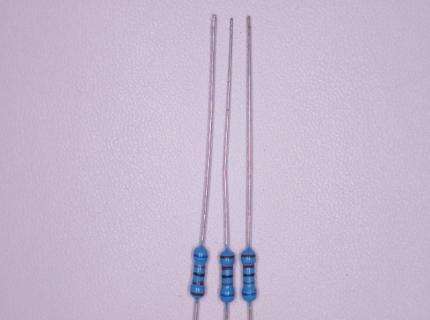Black band: (193, 272, 205, 277), (221, 274, 233, 279), (243, 273, 255, 277)
Blue band: (193, 254, 207, 258), (220, 293, 234, 297), (242, 292, 256, 296)
Brown band: (190, 291, 205, 296), (240, 254, 256, 258), (220, 255, 235, 259)
Grey band: (194, 265, 205, 269), (243, 282, 255, 285), (221, 283, 233, 286)
Red band: (191, 280, 204, 286), (243, 264, 255, 269), (221, 266, 233, 270)
